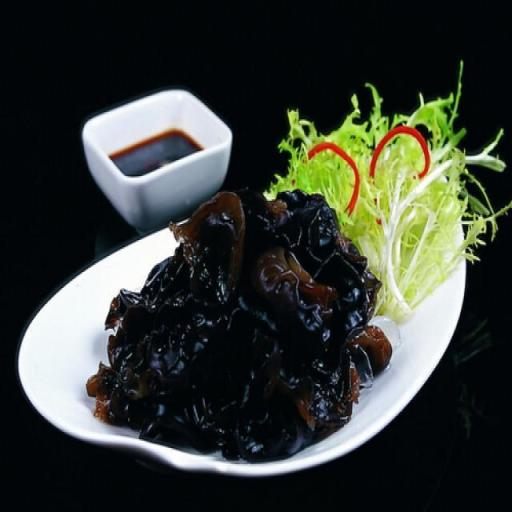Wood Ear Mushroom: (89, 193, 390, 460)
